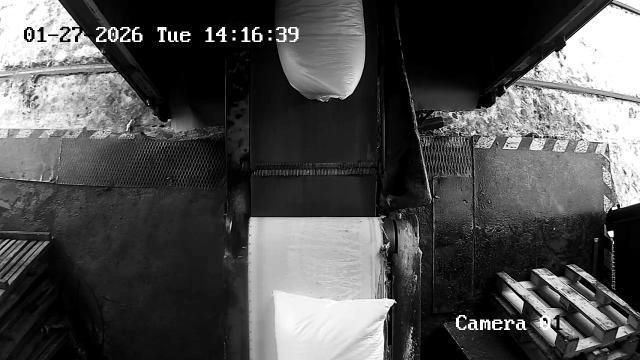bag: (276, 0, 366, 101), (274, 290, 398, 360)
